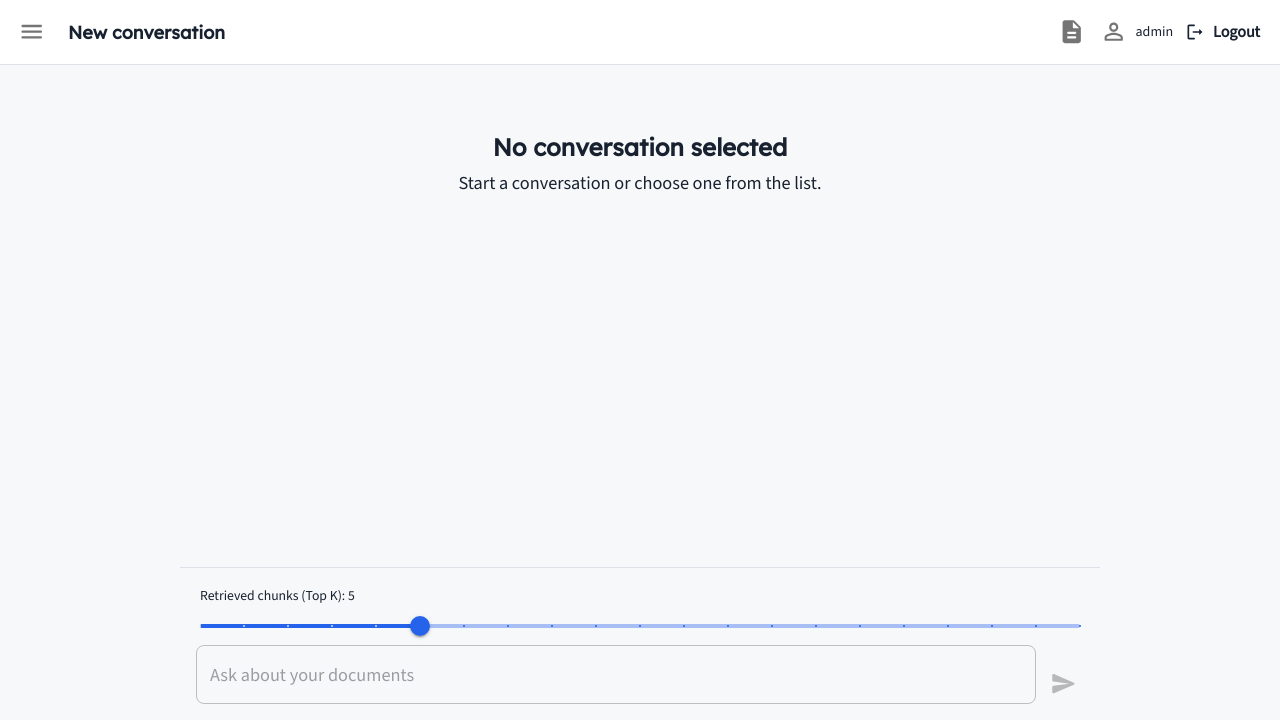
authentication flow › restores a valid stored session and logs out
Expected: the text "admin" is shown, [1136,22,1173,42]
Click the button "Logout" at (1225, 32), box [1181,12,1268,52]
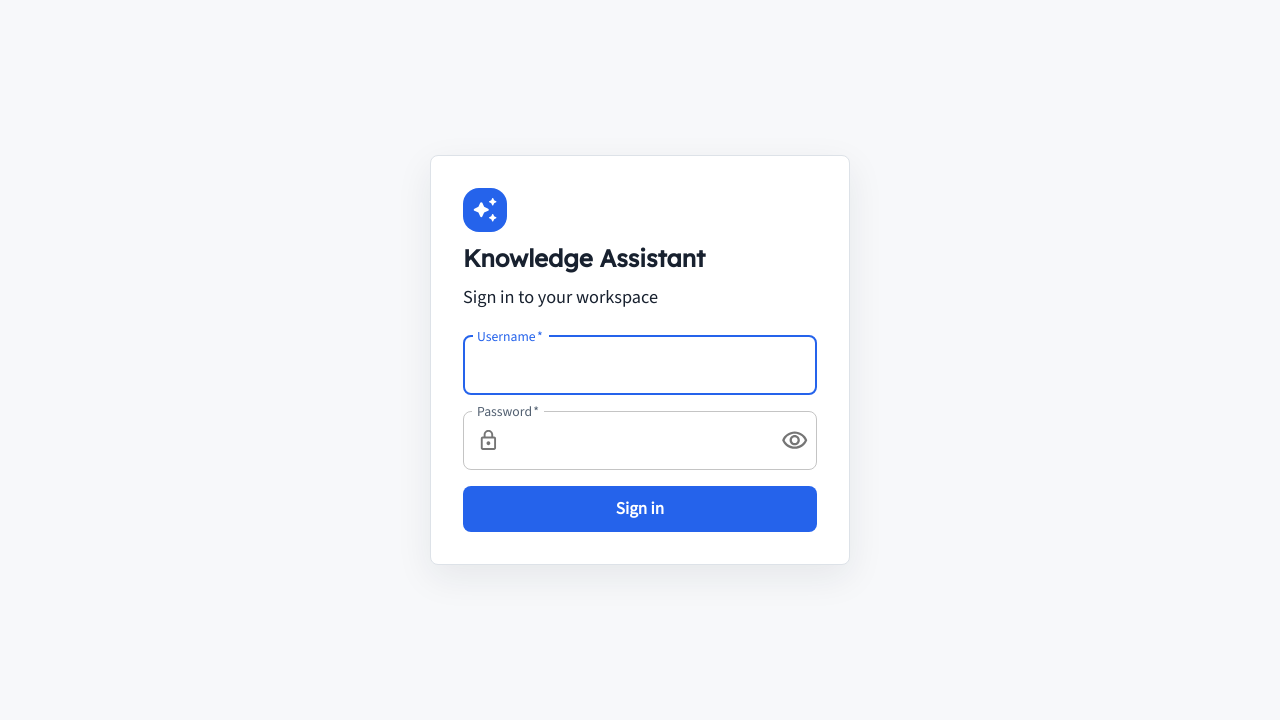
Now the button "Sign in" is shown, box [463,486,817,532]
